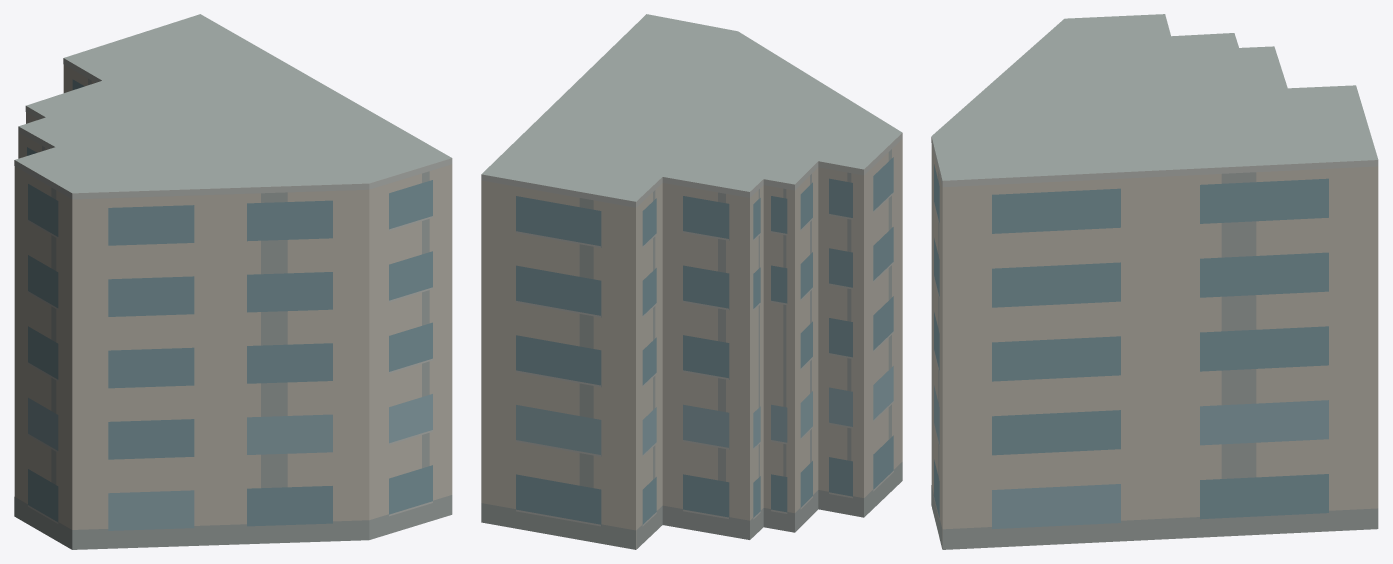
File: survey-upis-32916184.glb
3 views of the same model, side by side, from view 1: azimuth 30°, elevation 25°; view 2: azimuth 150°, elevation 25°; view 3: azimuth 270°, elevation 25° (orthographic). The views are drawn at different scales.
Parts seen in each view (by area): view 1: survey-upis-32916184.tmp; view 2: survey-upis-32916184.tmp; view 3: survey-upis-32916184.tmp.
Part boxes in pixels (x1=…): survey-upis-32916184.tmp: x1=14, y1=14, x2=452, y2=549; survey-upis-32916184.tmp: x1=481, y1=14, x2=902, y2=549; survey-upis-32916184.tmp: x1=931, y1=14, x2=1378, y2=549.
Size of the model in its own units: 13.68 by 14.1 by 15.49.
